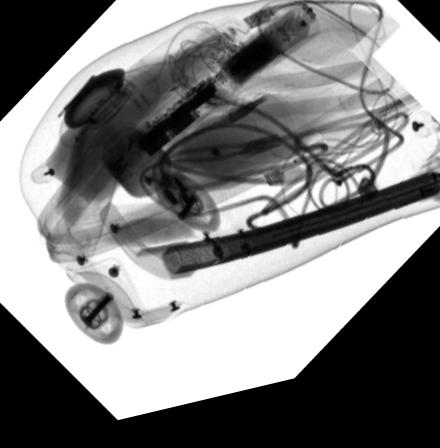Baton: (101, 13, 322, 190)
